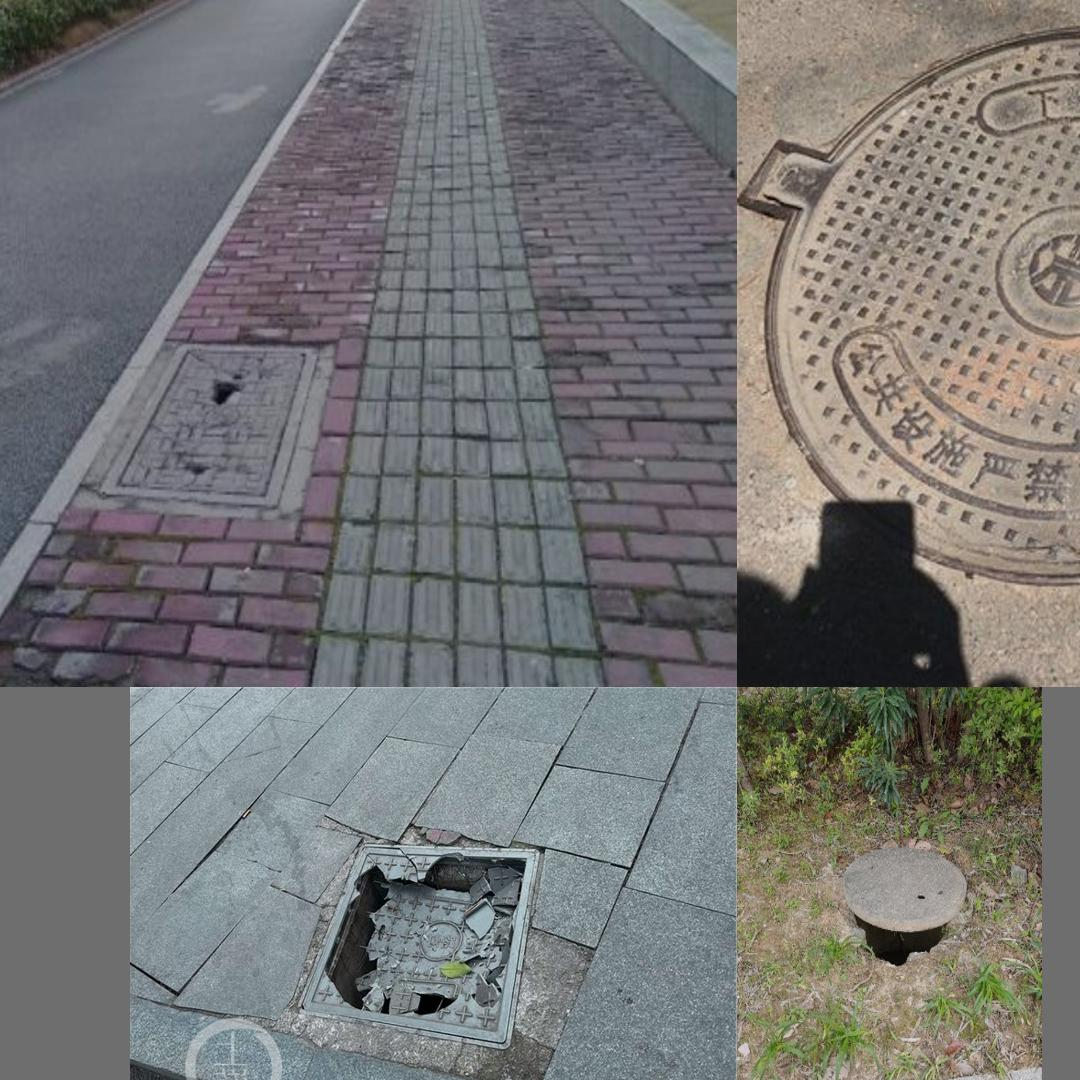broke: (750, 0, 1080, 579), (264, 827, 583, 1040), (98, 339, 321, 508), (840, 845, 966, 934)
